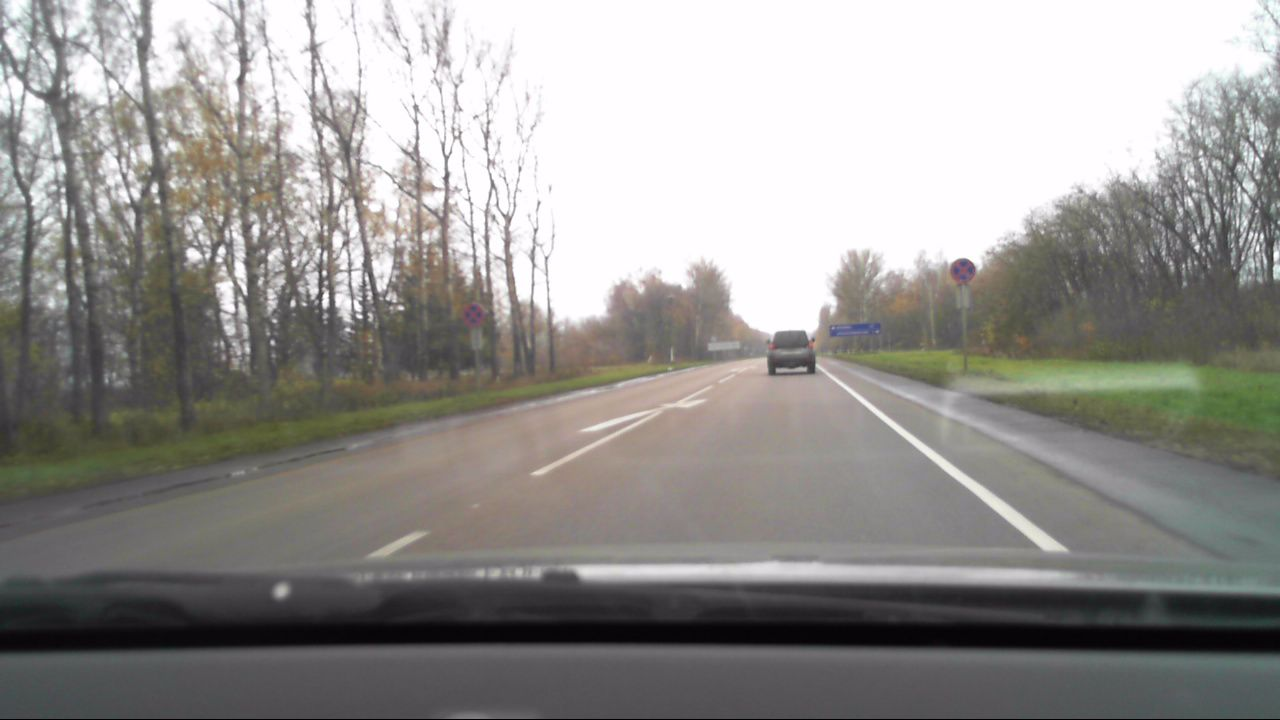No Parking: (462, 301, 486, 325)
